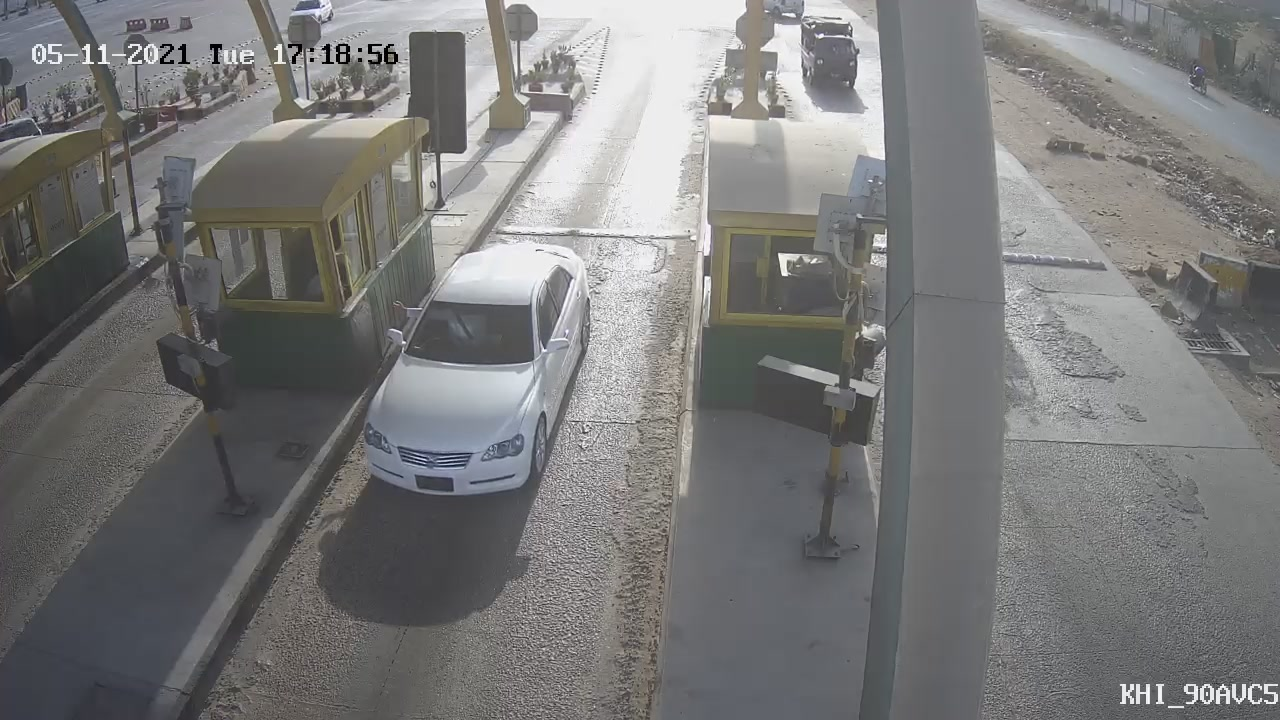F1: (321, 227, 609, 520)
